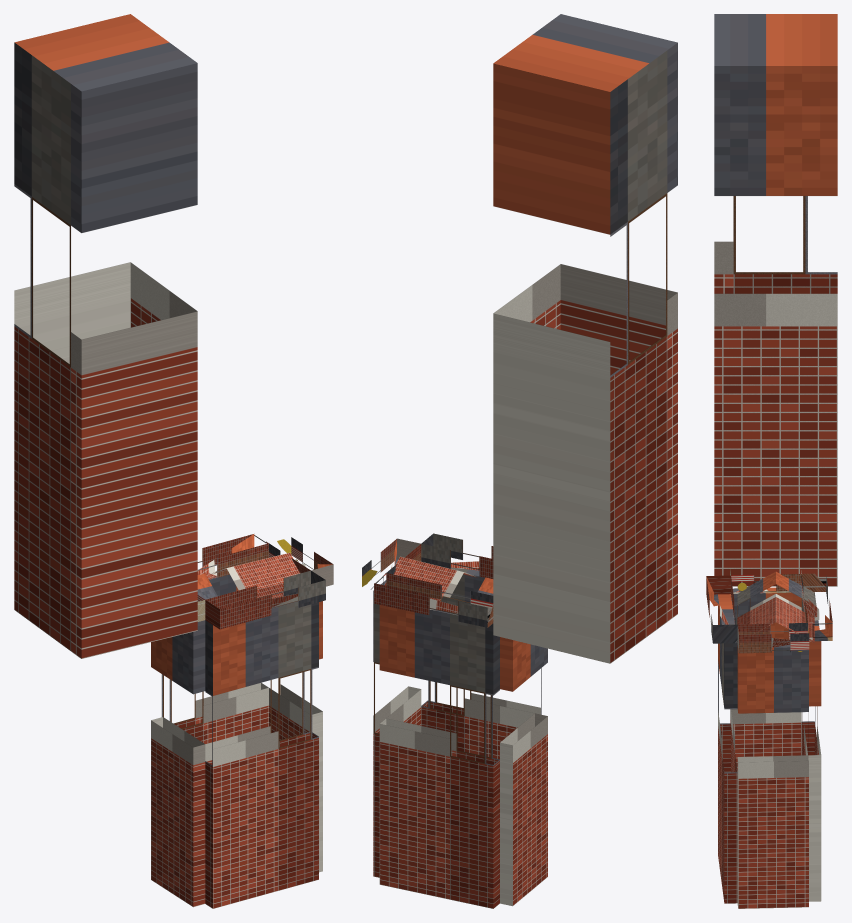
3 renders of one model, left to right at view 1: azimuth 30°, elevation 25°; view 2: azimuth 150°, elevation 25°; view 3: azimuth 270°, elevation 25°, orthographic. The views are drawn at different scales.
Visible parts, largest first — view 1: 1107169171__chimney_0_xb, 1107169171__wall_2_xb, 1107169171__wall_3_xb, 1107169171__wall_0_xb, 1107169171__cornice_2, 1107169171__wall_1_xb, 1107169171_roof_-1_xb, 1107169171__cornice_0, 1107169171__cornice_1; view 2: 1107169171__chimney_0_xb, 1107169171__wall_0_xb, 1107169171__wall_3_xb, 1107169171__wall_2_xb, 1107169171__cornice_0, 1107169171__wall_1_xb, 1107169171__cornice_2, 1107169171_roof_1_xb, 1107169171__cornice_1; view 3: 1107169171__chimney_0_xb, 1107169171__wall_1_xb, 1107169171__wall_2_xb, 1107169171__wall_3_xb, 1107169171__wall_0_xb, 1107169171__cornice_1, 1107169171_roof_1_xb, 1107169171__cornice_2, 1107169171_roof_-1_xb, 1107169171__cornice_0, 1107169171__cornice_3.
Part boxes in pixels (box(x1,y1,x2,y2)): 1107169171__chimney_0_xb: box(14, 14, 197, 658); 1107169171__wall_2_xb: box(205, 596, 318, 908); 1107169171__wall_3_xb: box(151, 620, 205, 907); 1107169171__wall_0_xb: box(162, 571, 268, 743); 1107169171__cornice_2: box(205, 570, 325, 629); 1107169171__wall_1_xb: box(269, 601, 322, 872); 1107169171_roof_-1_xb: box(197, 552, 300, 599); 1107169171__cornice_0: box(197, 534, 268, 579); 1107169171__cornice_1: box(269, 537, 333, 586); 1107169171__chimney_0_xb: box(493, 14, 677, 663); 1107169171__wall_0_xb: box(379, 605, 499, 908); 1107169171__wall_3_xb: box(500, 637, 547, 906); 1107169171__wall_2_xb: box(421, 567, 541, 759); 1107169171__cornice_0: box(374, 573, 493, 627); 1107169171__wall_1_xb: box(373, 580, 421, 877); 1107169171__cornice_2: box(421, 533, 493, 578); 1107169171_roof_1_xb: box(384, 556, 493, 621); 1107169171__cornice_1: box(362, 538, 421, 589); 1107169171__chimney_0_xb: box(714, 14, 837, 586); 1107169171__wall_1_xb: box(737, 644, 808, 908); 1107169171__wall_2_xb: box(718, 594, 737, 903); 1107169171__wall_3_xb: box(730, 587, 801, 771); 1107169171__wall_0_xb: box(801, 593, 821, 901); 1107169171__cornice_1: box(737, 623, 809, 653); 1107169171_roof_1_xb: box(776, 571, 814, 642); 1107169171__cornice_2: box(706, 575, 737, 643); 1107169171_roof_-1_xb: box(737, 571, 775, 634); 1107169171__cornice_0: box(801, 573, 832, 641); 1107169171__cornice_3: box(730, 569, 801, 593).
Size of the model in its own units: 0.3425 by 1.05 by 0.1597.
1 material, 1 textured.
